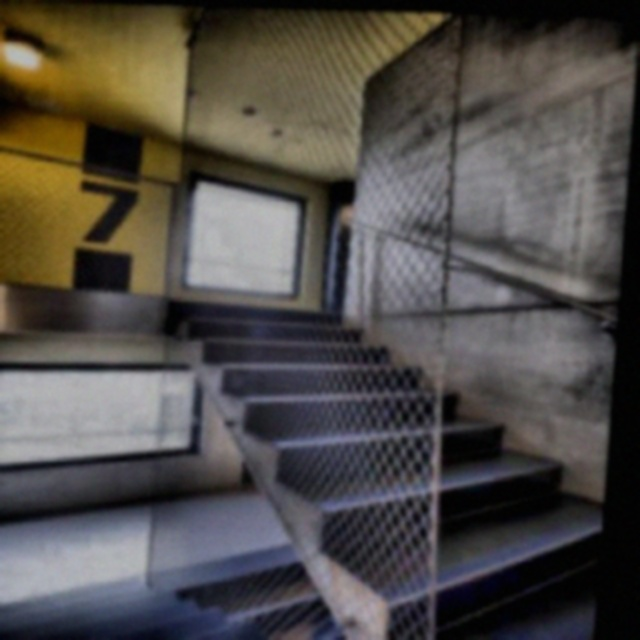stair: (157, 294, 623, 638)
